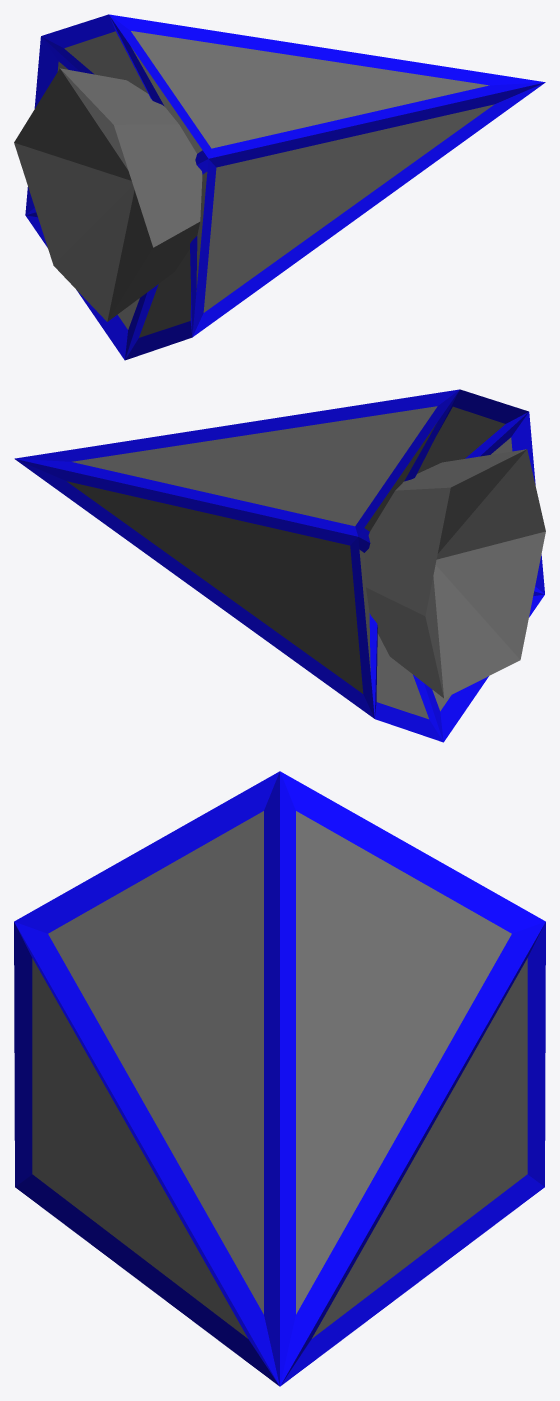
File: player_model1.fbx
3 views of the same model, one above another, from view 1: azimuth 30°, elevation 25°; view 2: azimuth 150°, elevation 25°; view 3: azimuth 270°, elevation 25° (orthographic). The views are drawn at different scales.
Parts seen in each view (by area): view 1: Cube.002, Cube.003, Cube.004; view 2: Cube.002, Cube.003, Cube.004; view 3: Cube.002, Cube.004.
Boxes of the visible parts, x1=… form: Cube.002: x1=57, y1=31, x2=494, y2=337; Cube.003: x1=14, y1=68, x2=202, y2=321; Cube.004: x1=25, y1=14, x2=545, y2=360; Cube.002: x1=67, y1=406, x2=512, y2=719; Cube.003: x1=364, y1=449, x2=545, y2=698; Cube.004: x1=14, y1=389, x2=544, y2=742; Cube.002: x1=32, y1=811, x2=527, y2=1338; Cube.004: x1=14, y1=771, x2=545, y2=1386.
Bounding box in the file's own units: 479 × 342 × 297.
